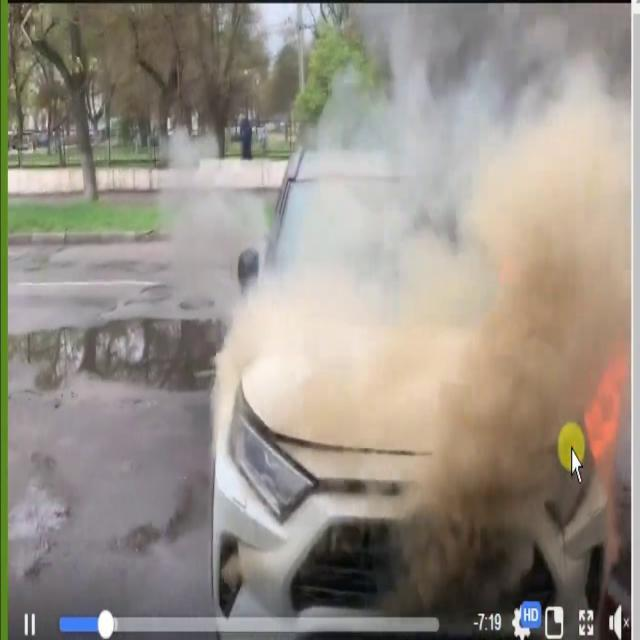Smoke: (226, 2, 631, 584)
